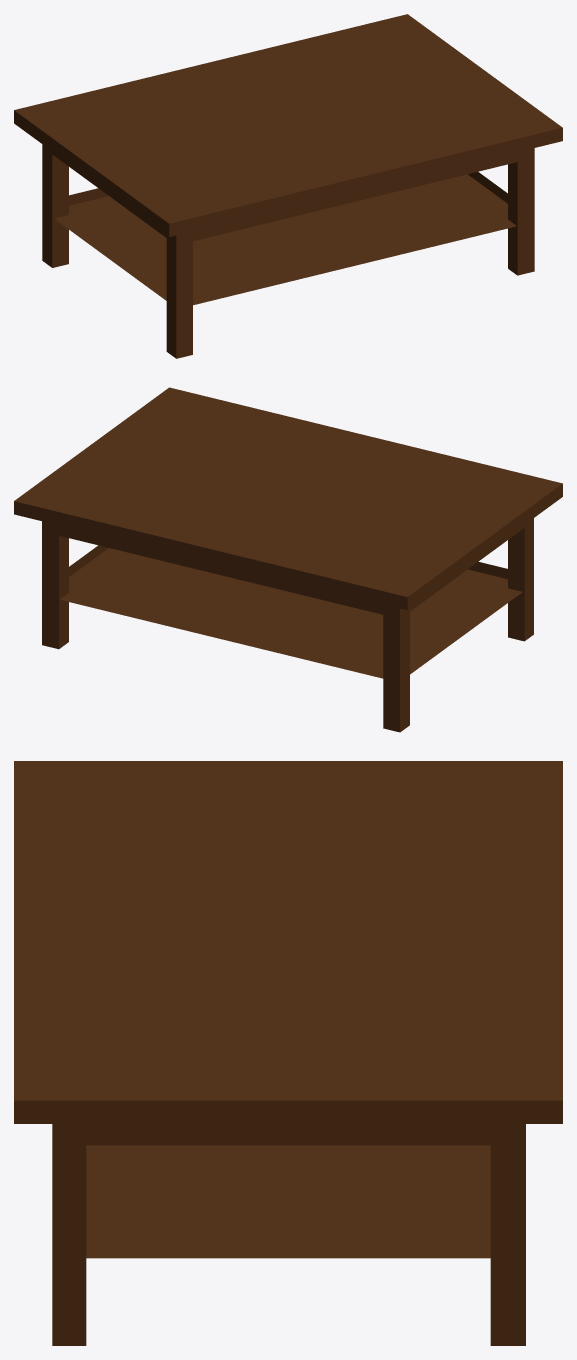
File: CoffeTable.fbx
3 views of the same model, one above another, from view 1: azimuth 30°, elevation 25°; view 2: azimuth 150°, elevation 25°; view 3: azimuth 270°, elevation 25° (orthographic). The views are drawn at different scales.
Visible parts, largest first — view 1: Cube; view 2: Cube; view 3: Cube.
Boxes of the visible parts, x1=… form: Cube: x1=14, y1=14, x2=562, y2=358; Cube: x1=14, y1=387, x2=562, y2=732; Cube: x1=14, y1=761, x2=562, y2=1345.
Size of the model in its own units: 167 by 59.83 by 114.
